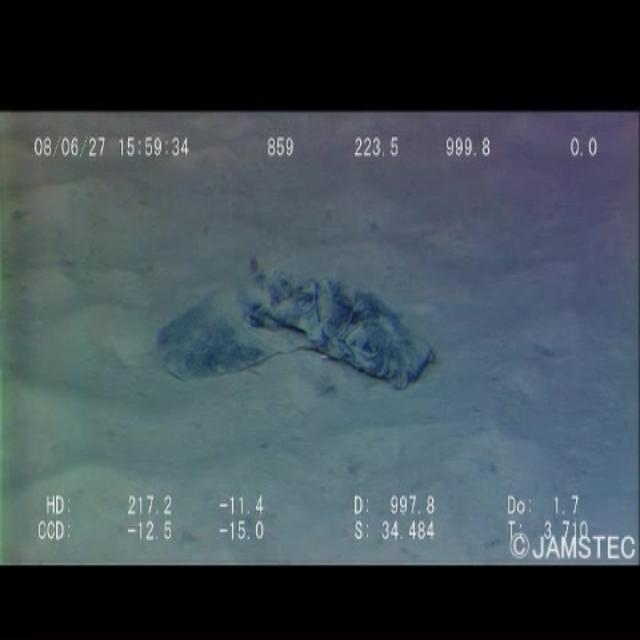Accessories: (148, 210, 454, 445)
